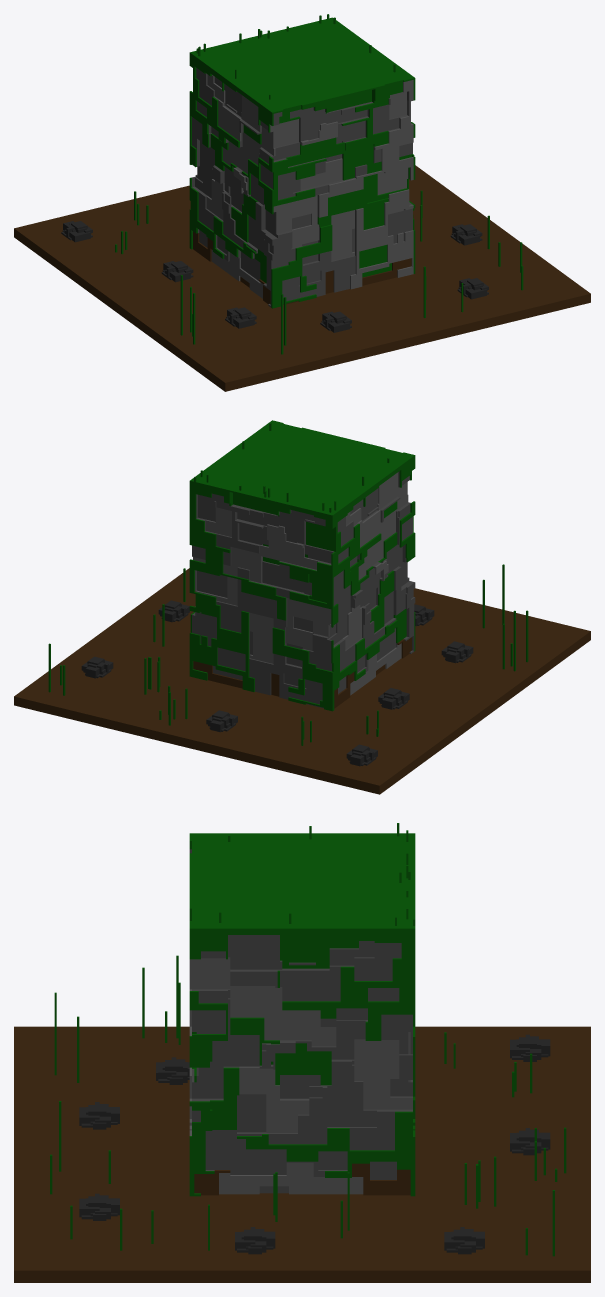
File: pond.gltf
3 renders of one model, top to bottom at view 1: azimuth 30°, elevation 25°; view 2: azimuth 150°, elevation 25°; view 3: azimuth 270°, elevation 25°, orthographic. The views are drawn at different scales.
Visible parts, largest first — view 1: pondv2-1; view 2: pondv2-1; view 3: pondv2-1.
Part boxes in pixels (<box>): pondv2-1: <box>14,14,590,391</box>; pondv2-1: <box>14,420,590,794</box>; pondv2-1: <box>14,823,590,1282</box>.
Size of the model in its own units: 25.6 by 14.3 by 25.6.
Materials: 1 (1 with a texture image).
